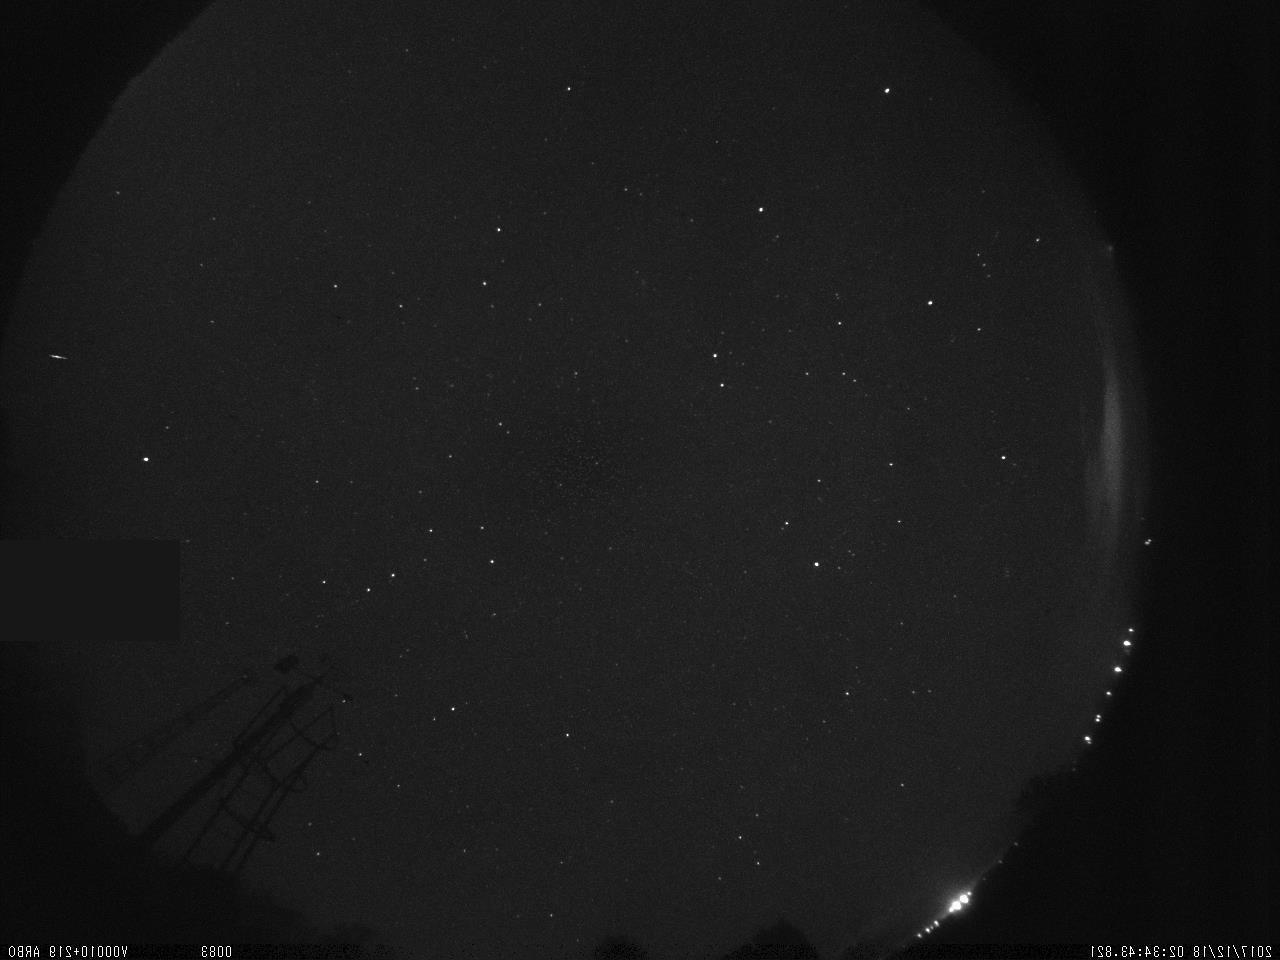meteor: (41, 347, 71, 370)
